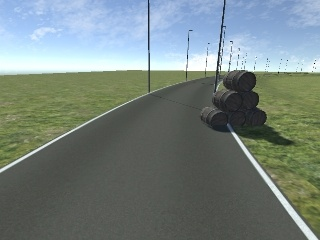Barriels: (197, 68, 275, 137)
